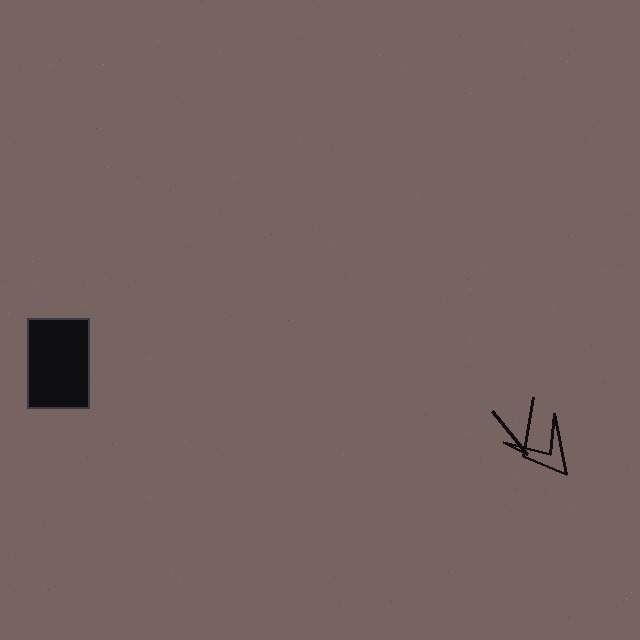crocodile_crack: (489, 390, 573, 480)
phone: (27, 318, 151, 408)
